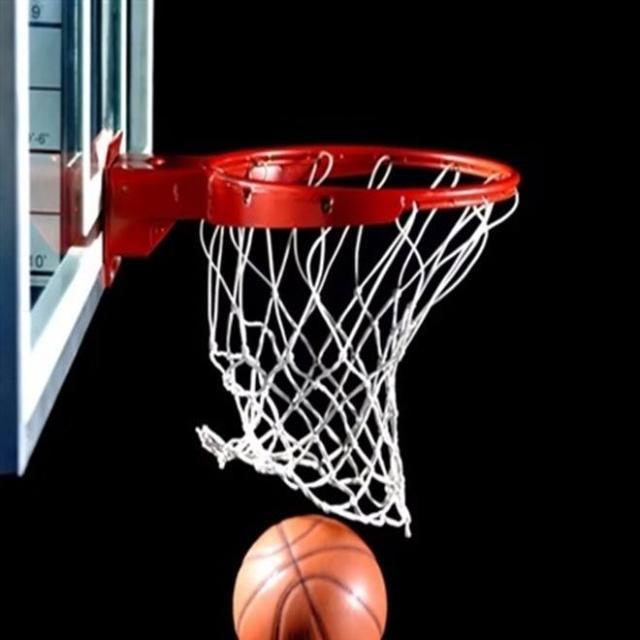basketball: (234, 518, 386, 640)
rim: (198, 146, 520, 524)
